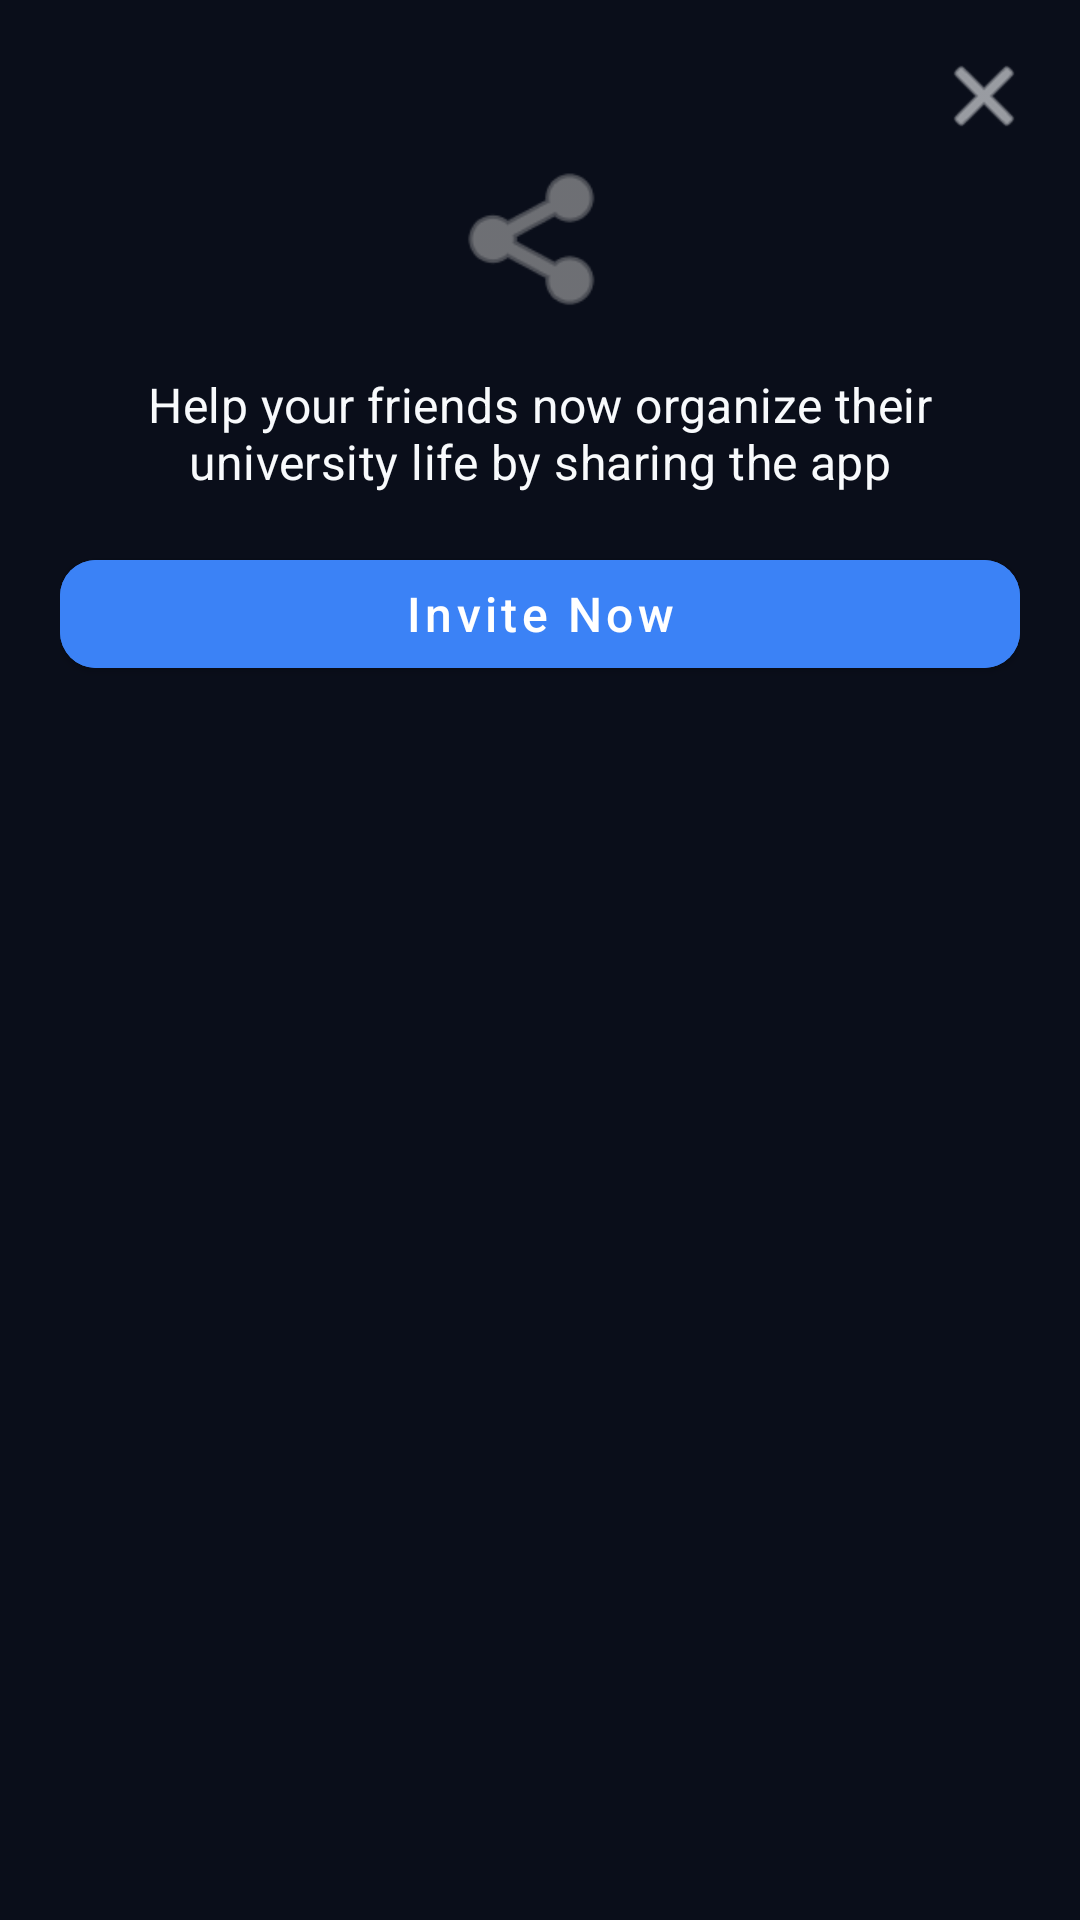

Named icons in this screenshot (1080x1920) and their bounding boxes, detection(x1, y1, x2, y2):
Close: detection(954, 66, 1014, 126)
share: detection(468, 174, 594, 305)
